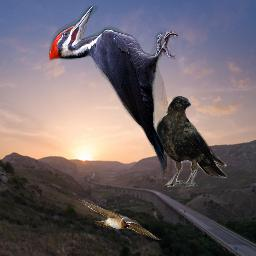Crow: (155, 95, 227, 187)
Swallow: (78, 198, 161, 240)
Woodpecker: (49, 6, 178, 188)
